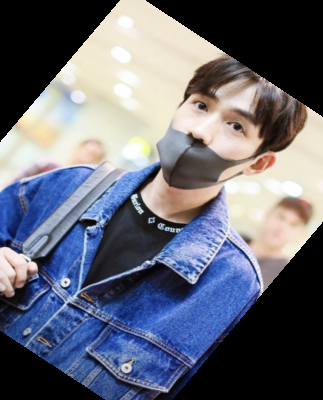mask_weared_incorrect: (155, 47, 317, 206)
